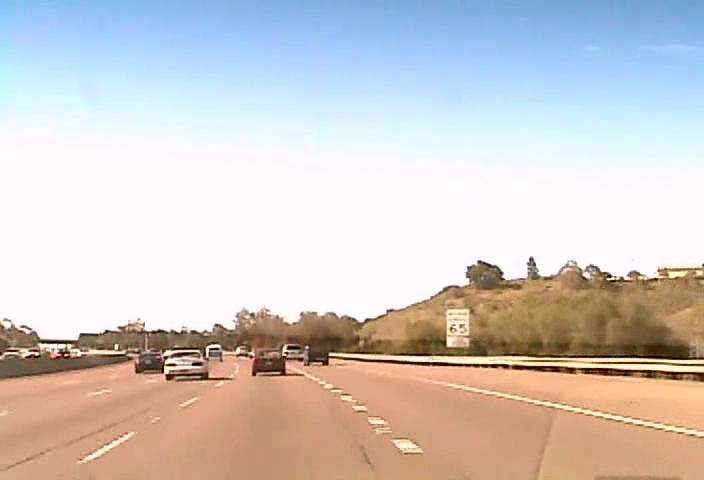speedLimit65: (446, 308, 469, 335)
